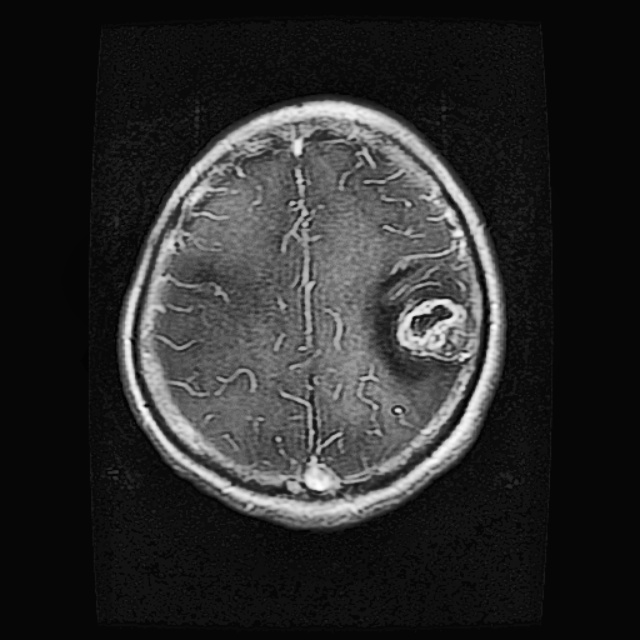Glioma: (373, 264, 473, 378)
